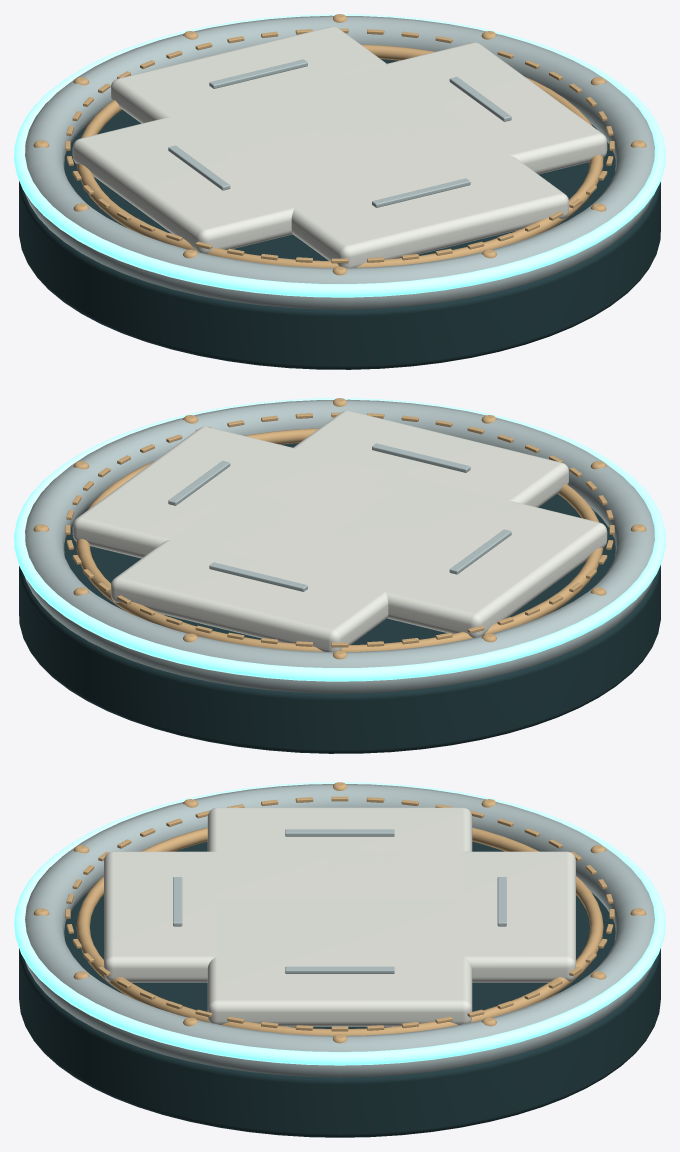
File: iris-cache.glb
3 views of the same model, one above another, from view 1: azimuth 30°, elevation 25°; view 2: azimuth 150°, elevation 25°; view 3: azimuth 270°, elevation 25° (orthographic).
Parts seen in each view (by area): view 1: Iris socket, Machined outer rim, Interlocking leaf.002, Interlocking leaf, Interlocking leaf.003, Radial gasket, Interlocking leaf.001, iris-cache | Secret | champagne metal, Leaf witness.001, Leaf witness.003, Leaf witness.002, Leaf witness; view 2: Iris socket, Machined outer rim, Interlocking leaf.001, Interlocking leaf, Interlocking leaf.002, Interlocking leaf.003, Radial gasket, iris-cache | Secret | champagne metal, Leaf witness.003, Leaf witness.001, Leaf witness.002, Leaf witness; view 3: Iris socket, Machined outer rim, Interlocking leaf, Interlocking leaf.002, Interlocking leaf.001, Interlocking leaf.003, Radial gasket, iris-cache | Secret | champagne metal, Leaf witness.002, Leaf witness.
Part boxes in pixels (x1,y1,x2,y2): Iris socket: [19, 59, 660, 369]; Machined outer rim: [24, 15, 654, 309]; Interlocking leaf.002: [72, 89, 410, 253]; Interlocking leaf: [269, 42, 607, 183]; Interlocking leaf.003: [240, 106, 568, 267]; Radial gasket: [14, 14, 665, 297]; Interlocking leaf.001: [111, 26, 390, 165]; iris-cache | Secret | champagne metal: [33, 14, 646, 275]; Leaf witness.001: [209, 59, 307, 88]; Leaf witness.003: [372, 178, 470, 207]; Leaf witness.002: [168, 145, 230, 190]; Leaf witness: [449, 77, 511, 121]; Iris socket: [19, 443, 660, 753]; Machined outer rim: [25, 399, 655, 693]; Interlocking leaf.001: [111, 490, 450, 651]; Interlocking leaf: [72, 426, 410, 567]; Interlocking leaf.002: [341, 473, 607, 637]; Interlocking leaf.003: [264, 410, 568, 549]; Radial gasket: [14, 398, 665, 681]; iris-cache | Secret | champagne metal: [33, 398, 646, 659]; Leaf witness.003: [372, 443, 470, 472]; Leaf witness.001: [209, 562, 307, 591]; Leaf witness.002: [449, 529, 511, 574]; Leaf witness: [168, 461, 230, 505]; Iris socket: [19, 841, 660, 1137]; Machined outer rim: [25, 784, 654, 1077]; Interlocking leaf: [207, 899, 472, 1026]; Interlocking leaf.002: [207, 807, 472, 908]; Interlocking leaf.001: [328, 851, 575, 982]; Interlocking leaf.003: [104, 851, 345, 982]; Radial gasket: [14, 782, 665, 1065]; iris-cache | Secret | champagne metal: [33, 782, 646, 1043]; Leaf witness.002: [285, 829, 394, 836]; Leaf witness: [285, 966, 394, 973].
Size of the model in its own units: 1.73 by 0.306 by 1.73.
